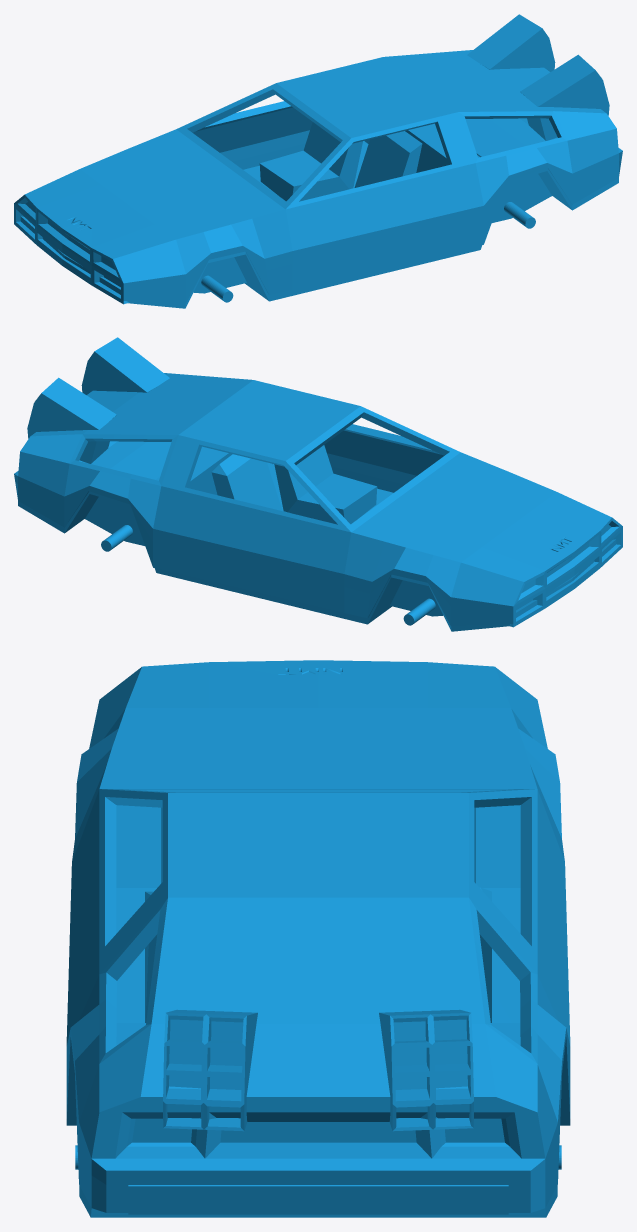
The model's file is delorean.glb.
3 renders of one model, top to bottom at view 1: azimuth 30°, elevation 25°; view 2: azimuth 150°, elevation 25°; view 3: azimuth 270°, elevation 25°, orthographic. The views are drawn at different scales.
Parts seen in each view (by area): view 1: Cube.002_Cube.008; view 2: Cube.002_Cube.008; view 3: Cube.002_Cube.008.
Boxes of the visible parts, box(x1,y1,x2,y2) form: Cube.002_Cube.008: box(14, 14, 622, 308); Cube.002_Cube.008: box(14, 337, 622, 631); Cube.002_Cube.008: box(66, 660, 570, 1217).
Bounding box in the file's own units: 5.72 × 1.4 × 2.44.
